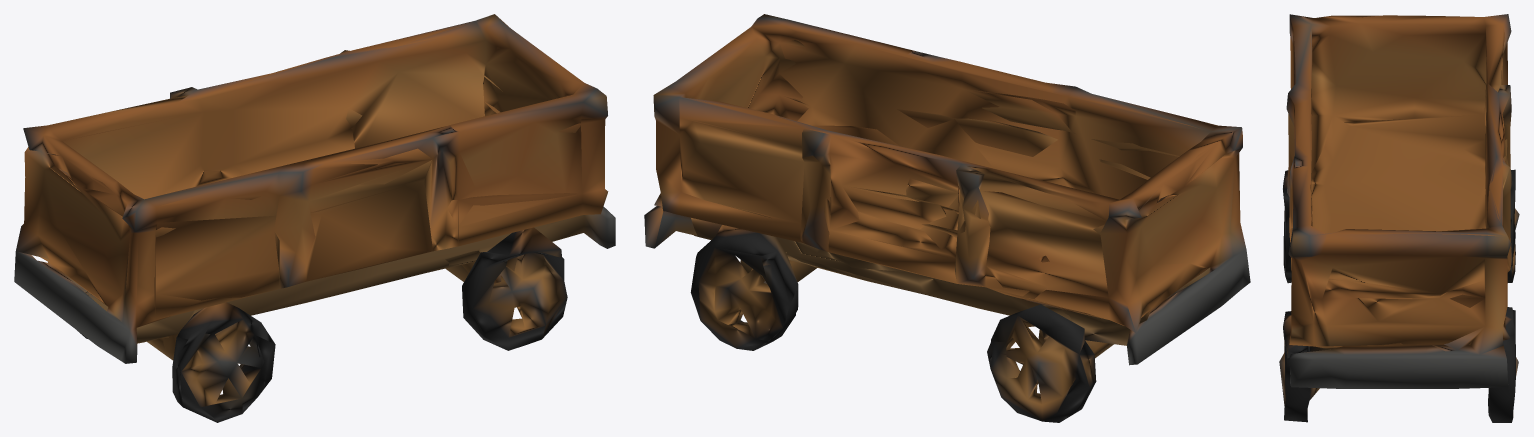
The model's file is gen3d-wagon-lod0.glb.
3 views of the same model, side by side, from view 1: azimuth 30°, elevation 25°; view 2: azimuth 150°, elevation 25°; view 3: azimuth 270°, elevation 25° (orthographic). The views are drawn at different scales.
Parts seen in each view (by area): view 1: part_0; view 2: part_0; view 3: part_0.
Boxes of the visible parts, x1,y1,x2,y2 form: part_0: (14,14,615,422); part_0: (644,14,1250,422); part_0: (1279,14,1519,422).
Size of the model in its own units: 2.21 by 0.9939 by 0.9685.
